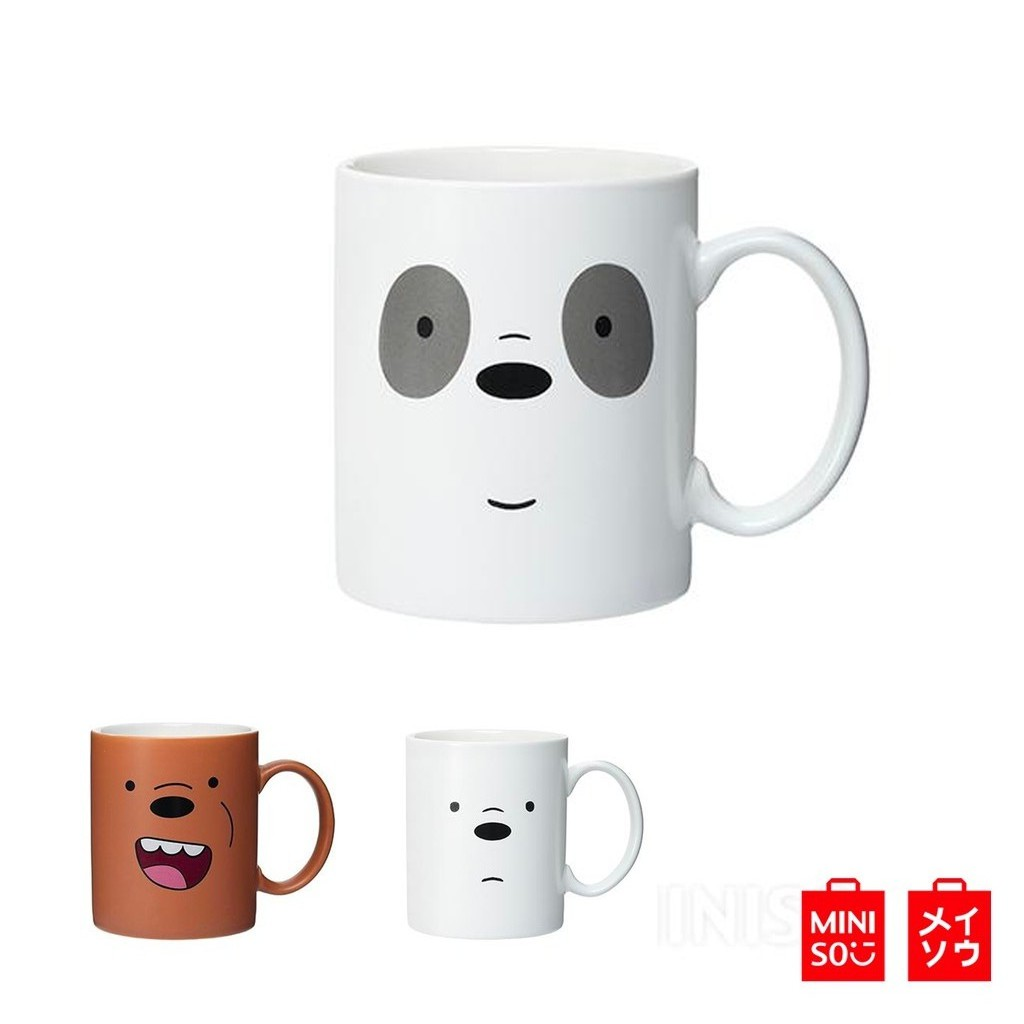gelas: (240, 115, 846, 675), (37, 677, 334, 994), (366, 672, 663, 989)
